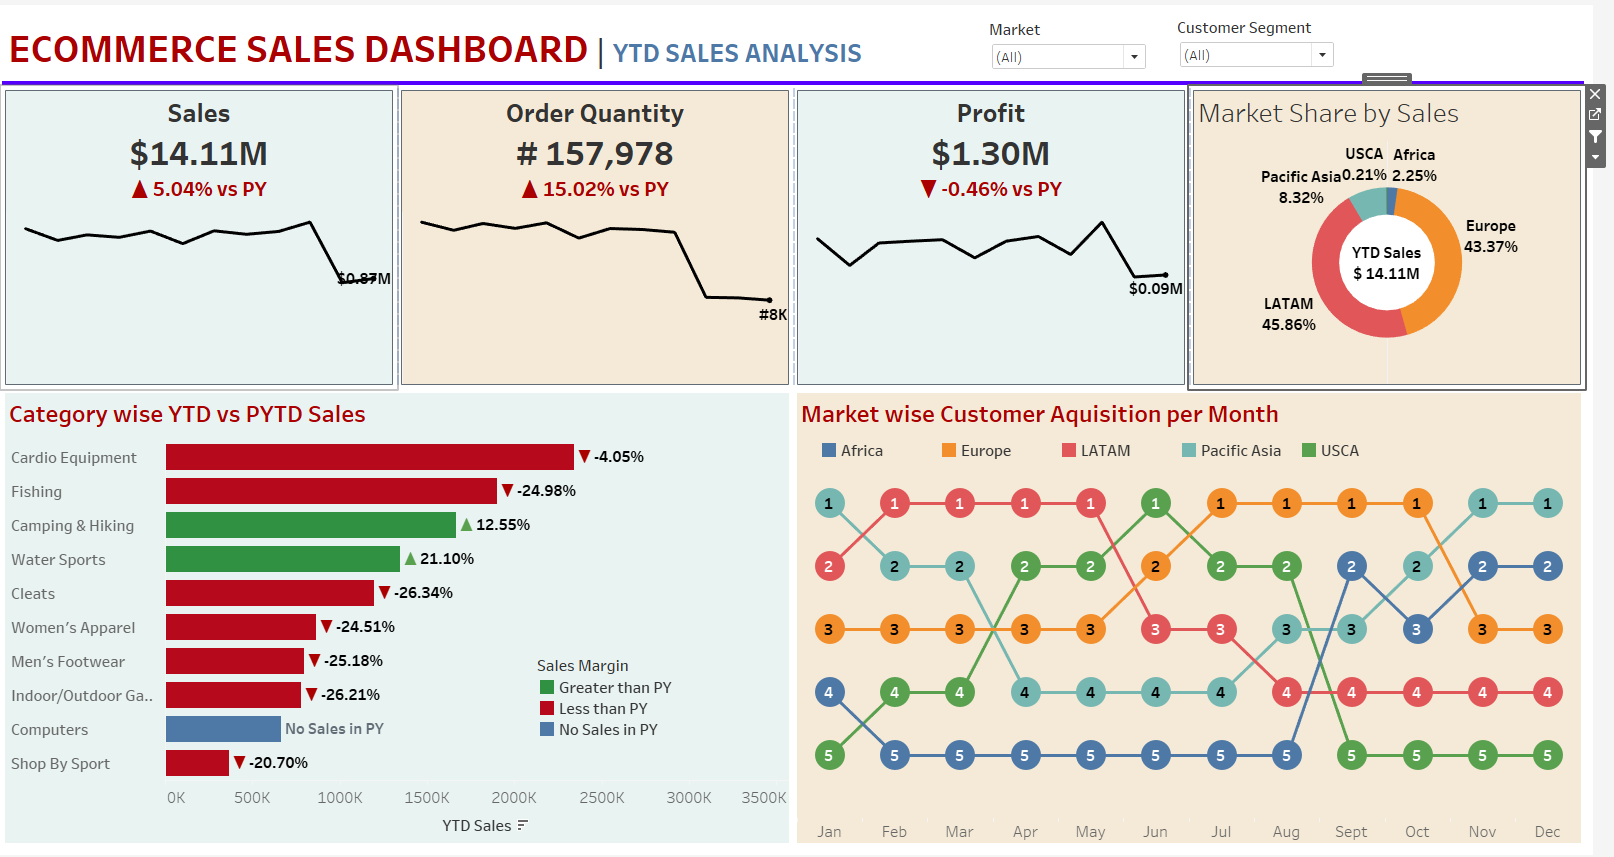

What the dashboard file says about the page in this screenshot:
{"tool":"tableau","page":{"name":"Dashboard 1","canvas":[1600,850],"ordinal":0},"visuals":[{"type":"title","box":[8,8,1584,67]},{"type":"filter","title":"Sales KPI","param":"[federated.0vnefw116j7lld16h7k2f1m0oul7].[none:Customer Segment:nk]","box":[1184,12,160,53]},{"type":"filter","title":"Sales KPI","param":"[federated.0vnefw116j7lld16h7k2f1m0oul7].[none:Market:nk]","box":[996,14,160,53]},{"type":"blank","box":[8,75,1584,6]},{"type":"worksheet","title":"Sales KPI","mark":"Automatic","rows":["Sales"],"cols":["Order Date"],"box":[8,81,396,303]},{"type":"worksheet","title":"Order Quantity KPI","mark":"Automatic","rows":["Order Quantity"],"cols":["Order Date"],"box":[404,81,396,303]},{"type":"worksheet","title":"Profit KPI","mark":"Automatic","rows":["Profit Per Order"],"cols":["Order Date"],"box":[800,81,396,303]},{"type":"worksheet","title":"Market Share by Sales","mark":"Pie","cols":["Calculation_683139801061052429","Calculation_683139801061077007"],"box":[1196,81,396,303]},{"type":"worksheet","title":"Category wise YTD vs PYTD Sales","mark":"Bar","rows":["Category Name"],"cols":["Calculation_683139801061802000"],"box":[8,384,792,458]},{"type":"worksheet","title":"Market wise Customer Aquisition per Month","mark":"Automatic","cols":["Order Date"],"box":[800,384,792,458]},{"type":"legend","title":"Market wise Customer Aquisition per Month","param":"[federated.0vnefw116j7lld16h7k2f1m0oul7].[none:Market:nk]","box":[826,435,714,44]},{"type":"legend","title":"Category wise YTD vs PYTD Sales","param":"[federated.0vnefw116j7lld16h7k2f1m0oul7].[usr:Calculation_211669215379857410:nk]","box":[544,650,140,85]}]}

Visuals, with their boxes in screenshot pixels (x1, y1, x2, y2), scaled from the page's 1600x850 canvas onto the 1614x857 screenshot:
title: (8, 8, 1606, 76)
"Sales KPI" filter: (1194, 12, 1356, 66)
"Sales KPI" filter: (1005, 14, 1166, 68)
blank: (8, 76, 1606, 82)
"Sales KPI" worksheet: (8, 82, 408, 387)
"Order Quantity KPI" worksheet: (408, 82, 807, 387)
"Profit KPI" worksheet: (807, 82, 1206, 387)
"Market Share by Sales" worksheet (Pie marks): (1206, 82, 1606, 387)
"Category wise YTD vs PYTD Sales" worksheet (Bar marks): (8, 387, 807, 849)
"Market wise Customer Aquisition per Month" worksheet: (807, 387, 1606, 849)
"Market wise Customer Aquisition per Month" legend: (833, 439, 1553, 483)
"Category wise YTD vs PYTD Sales" legend: (549, 655, 690, 741)
